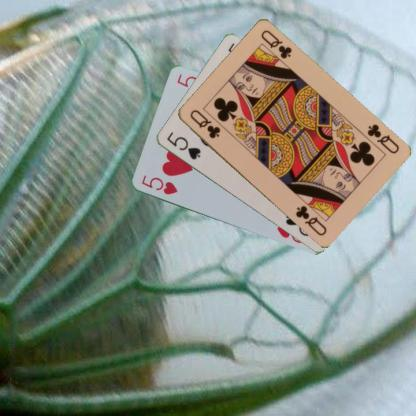5h: (138, 173, 178, 196)
5s: (164, 129, 202, 161)
Qc: (364, 121, 400, 156), (187, 107, 221, 140)
